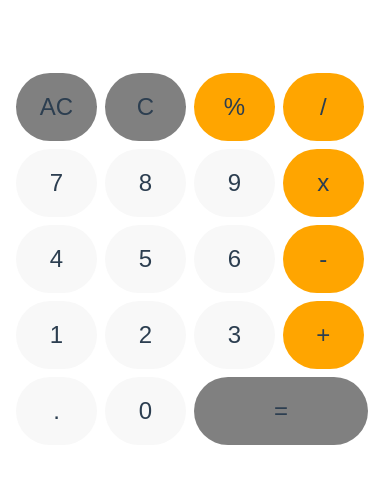
Test: Calculator › check add functionality
//  click 7
Click the button "7": (56,183) [16, 149, 97, 217]
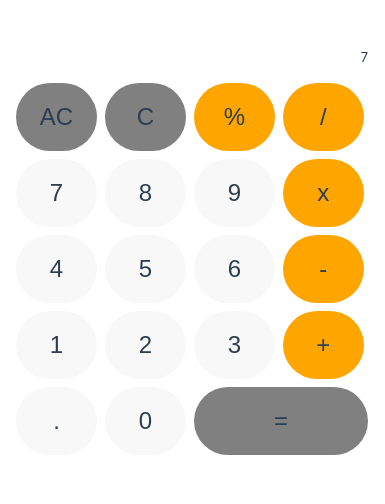
//  click +
Click the button "+": (323,345) [283, 311, 364, 379]
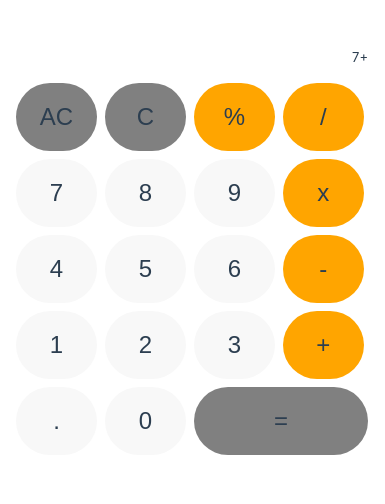
//  click 8
Click the button "8": (146,193) [105, 159, 186, 227]
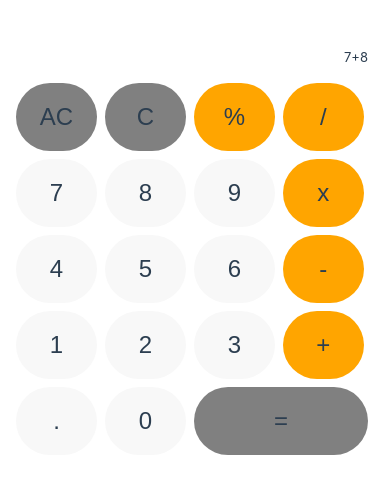
Click the button "=": (281,421) [194, 387, 368, 455]
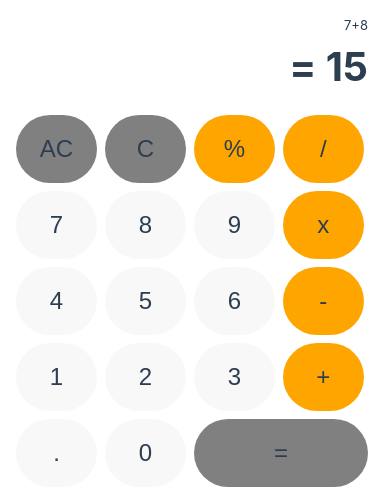
Now the text with id "expr" reads "7+8", box [344, 17, 368, 33]
Now the text with id "result" reads "= 15", box [289, 42, 368, 91]
